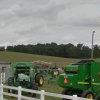Tractor: (15, 50, 100, 98)
